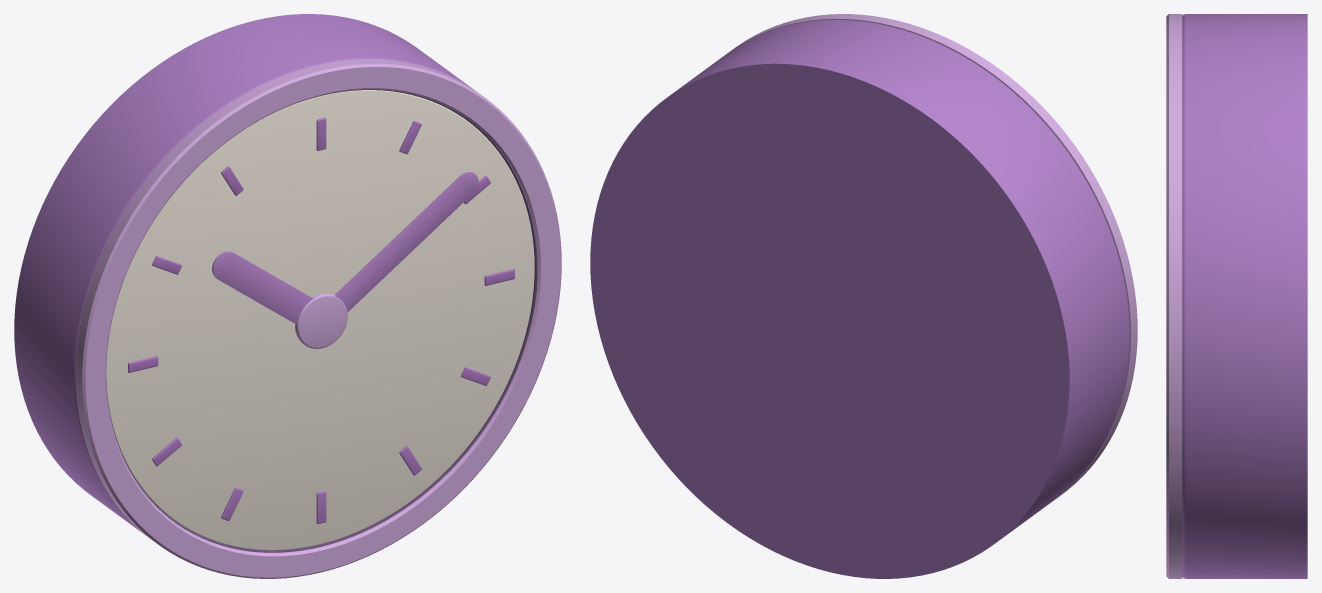
Rendered from LavenderChibiClock_160x40mm.fbx.
The picture shows the model from 3 angles, left to right: view 1: azimuth 30°, elevation 25°; view 2: azimuth 150°, elevation 25°; view 3: azimuth 270°, elevation 25°; orthographic projection. The views are drawn at different scales.
Visible parts, largest first — view 1: Clock_Face, Clock_BackHousing, Clock_FrontBezel, Clock_MinuteHand, Clock_HourMarkers, Clock_HourHand, Clock_FaceShadowRing, Clock_CenterCap; view 2: Clock_BackHousing, Clock_RearPanel, Clock_FrontBezel; view 3: Clock_BackHousing, Clock_FrontBezel.
Part boxes in pixels (x1,y1,x2,y2): Clock_Face: [106, 90, 534, 550]; Clock_BackHousing: [14, 14, 473, 535]; Clock_FrontBezel: [75, 59, 561, 578]; Clock_MinuteHand: [335, 172, 478, 312]; Clock_HourMarkers: [128, 117, 514, 524]; Clock_HourHand: [212, 251, 313, 324]; Clock_FaceShadowRing: [106, 89, 536, 552]; Clock_CenterCap: [295, 293, 347, 348]; Clock_BackHousing: [590, 20, 1129, 578]; Clock_RearPanel: [614, 89, 1044, 552]; Clock_FrontBezel: [730, 14, 1137, 495]; Clock_BackHousing: [1182, 14, 1307, 578]; Clock_FrontBezel: [1166, 14, 1182, 578].
Bounding box in the file's own units: 0.16 × 0.16 × 0.04.
